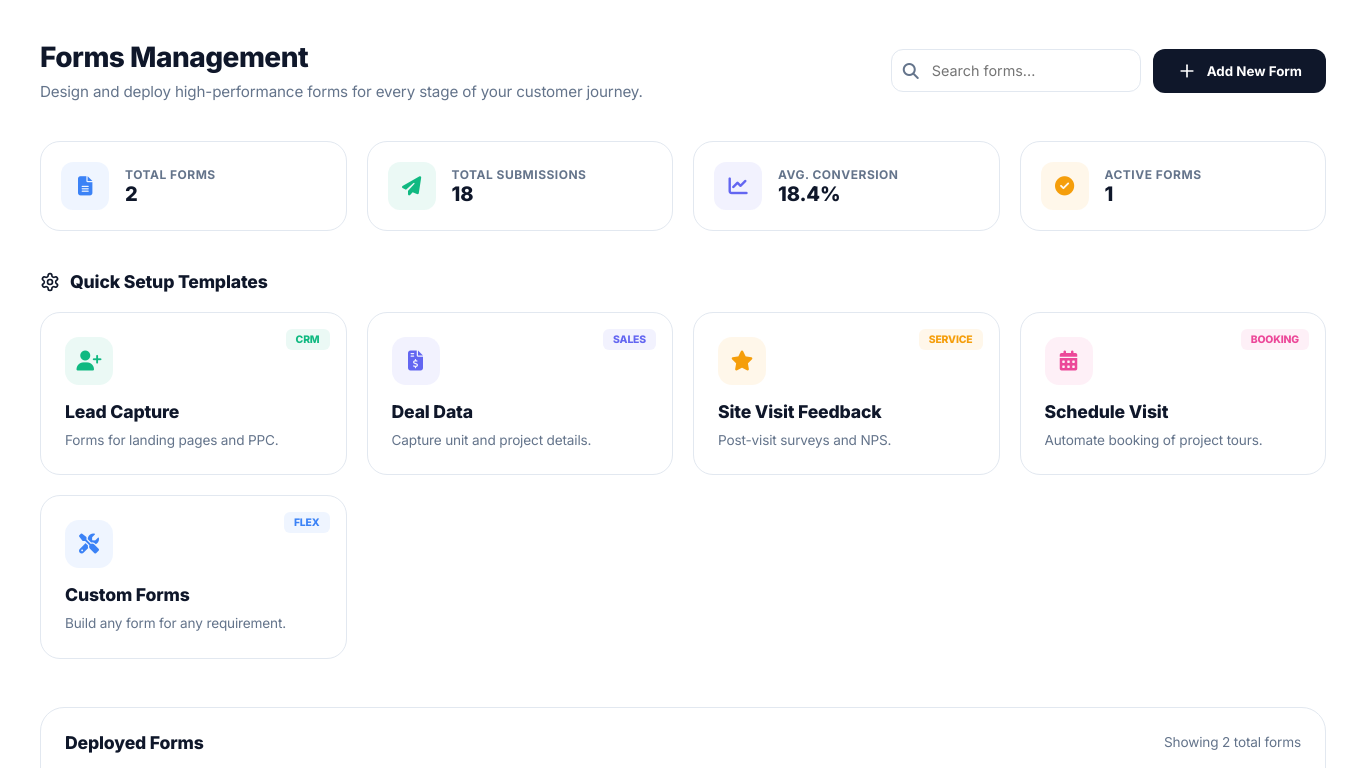
Test: FormsSettingsPage Component with DataTable › displays empty state when no forms match search criteria
Type "Nonexistent Form XYZ" into the field with placeholder "Search forms..." at {"x": 1016, "y": 70}, box [891, 48, 1141, 92]
(page scrolled)
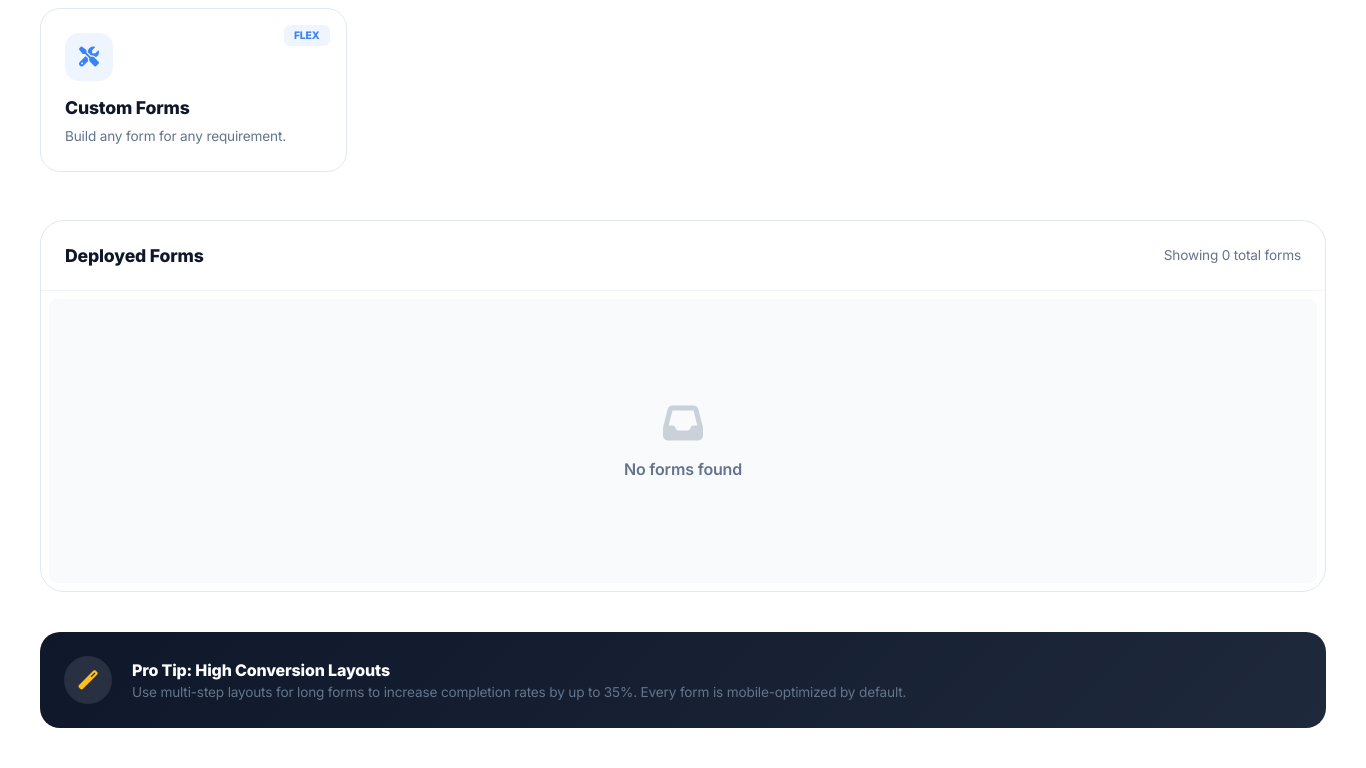
Result: the text "No forms found" is shown at [624, 459, 742, 479]
